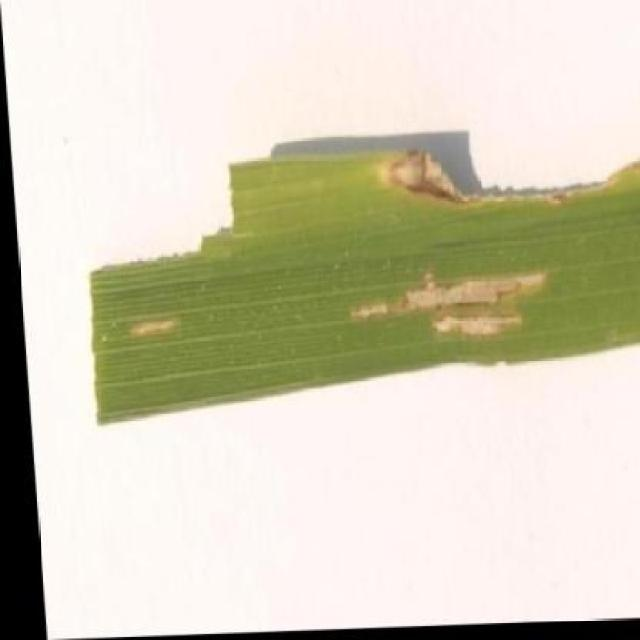Brown_Spot: (69, 143, 640, 429)
